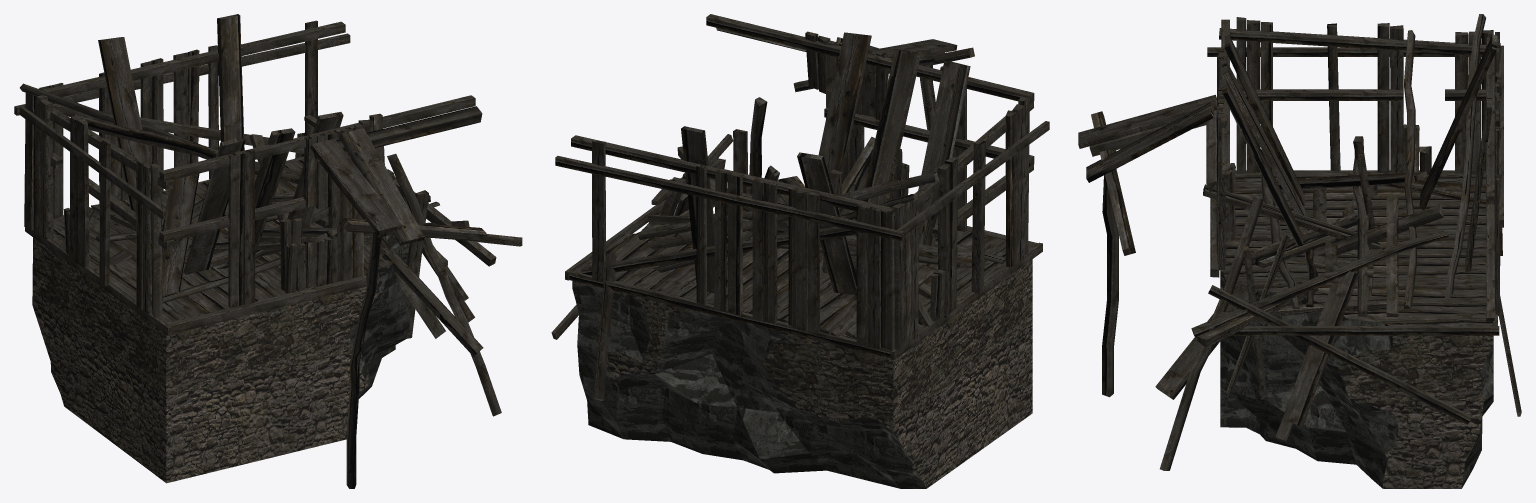
File: G3_Myrtana_House_Hut_Ruined_01.obj
3 views of the same model, side by side, from view 1: azimuth 30°, elevation 25°; view 2: azimuth 150°, elevation 25°; view 3: azimuth 270°, elevation 25° (orthographic). The views are drawn at different scales.
Visible parts, largest first — view 1: G3_Myrtana_House_Hut_Ruined_01_2, G3_Myrtana_House_Hut_Ruined_01_0, G3_Myrtana_House_Hut_Ruined_01_1; view 2: G3_Myrtana_House_Hut_Ruined_01_2, G3_Myrtana_House_Hut_Ruined_01_1, G3_Myrtana_House_Hut_Ruined_01_0; view 3: G3_Myrtana_House_Hut_Ruined_01_2, G3_Myrtana_House_Hut_Ruined_01_1, G3_Myrtana_House_Hut_Ruined_01_0.
Part boxes in pixels (<box>): G3_Myrtana_House_Hut_Ruined_01_2: <box>14,14,522,488</box>; G3_Myrtana_House_Hut_Ruined_01_0: <box>32,237,379,483</box>; G3_Myrtana_House_Hut_Ruined_01_1: <box>350,235,410,398</box>; G3_Myrtana_House_Hut_Ruined_01_2: <box>551,14,1049,400</box>; G3_Myrtana_House_Hut_Ruined_01_1: <box>572,281,926,488</box>; G3_Myrtana_House_Hut_Ruined_01_0: <box>572,247,1032,488</box>; G3_Myrtana_House_Hut_Ruined_01_2: <box>1078,14,1521,470</box>; G3_Myrtana_House_Hut_Ruined_01_1: <box>1220,271,1493,488</box>; G3_Myrtana_House_Hut_Ruined_01_0: <box>1337,335,1493,488</box>.
Bounding box in the file's own units: 9.76 × 8.37 × 10.05.
